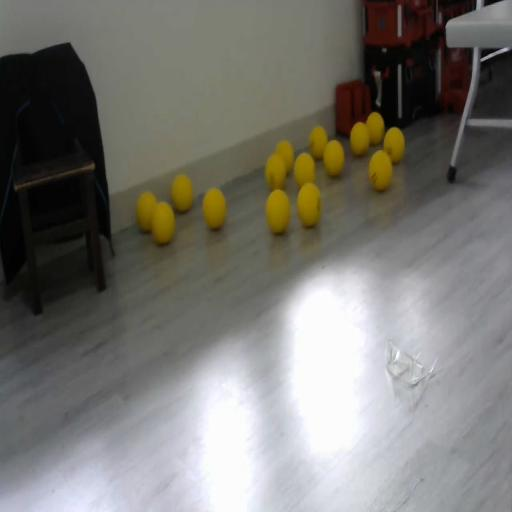FUEL: (296, 180, 322, 228), (265, 187, 291, 234), (202, 186, 226, 230), (134, 190, 158, 232), (368, 150, 392, 190), (170, 173, 194, 212), (383, 126, 405, 164), (293, 152, 315, 188), (274, 138, 294, 174), (324, 140, 344, 176), (350, 121, 370, 156), (309, 125, 328, 159), (366, 111, 384, 145)
